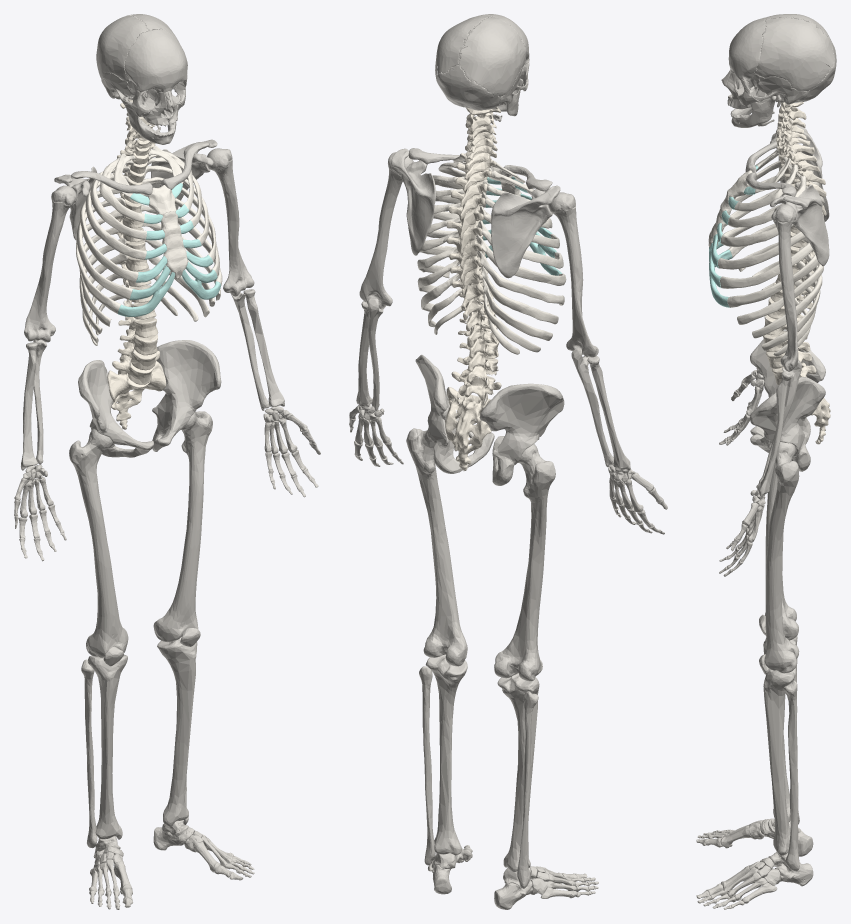
The model's file is human-skeleton.glb.
The picture shows the model from 3 angles, left to right: view 1: azimuth 30°, elevation 25°; view 2: azimuth 150°, elevation 25°; view 3: azimuth 270°, elevation 25°; orthographic projection. The views are drawn at different scales.
Parts seen in each view (by area): view 1: right-femur, left-femur, left-hip-bone, costal-cartilages, left-tibia, frontal-bone, right-tibia, right-hip-bone, right-humerus, left-humerus, right-parietal-bone, sternum (+17 smaller); view 2: right-femur, left-femur, right-hip-bone, right-parietal-bone, right-scapula, left-tibia, right-tibia, left-hip-bone, right-humerus, left-scapula, sacrum, left-humerus (+15 smaller); view 3: left-femur, left-parietal-bone, left-tibia, left-hip-bone, left-humerus, left-scapula, left-fibula, frontal-bone, right-hip-bone, costal-cartilages, right-femur, left-radius (+25 smaller).
Boxes of the visible parts, x1,y1,x2,y2 form: right-femur: (69, 428, 128, 657); left-femur: (153, 411, 212, 642); left-hip-bone: (152, 340, 221, 451); costal-cartilages: (118, 183, 220, 316); left-tibia: (157, 636, 197, 826); frontal-bone: (125, 28, 187, 93); right-tibia: (88, 654, 127, 839); right-hip-bone: (78, 360, 153, 457); right-humerus: (24, 185, 76, 342); left-humerus: (207, 148, 254, 296); right-parietal-bone: (96, 15, 149, 81); sternum: (148, 185, 188, 279); right-femur: (494, 444, 555, 681); left-femur: (406, 428, 467, 666); right-hip-bone: (479, 383, 564, 485); right-parietal-bone: (458, 16, 526, 96); right-scapula: (491, 185, 560, 278); left-tibia: (425, 654, 467, 854); right-tibia: (497, 673, 539, 871); left-hip-bone: (415, 354, 494, 473); right-humerus: (549, 192, 598, 357); left-scapula: (391, 148, 435, 255); sacrum: (445, 387, 491, 470); left-humerus: (359, 152, 413, 309); left-femur: (764, 442, 799, 673); left-parietal-bone: (755, 17, 834, 91); left-tibia: (763, 668, 795, 855); left-hip-bone: (750, 377, 825, 471); left-humerus: (771, 204, 798, 371); left-scapula: (770, 184, 829, 266); left-fibula: (783, 680, 799, 870); frontal-bone: (728, 17, 767, 80); right-hip-bone: (750, 330, 825, 444); costal-cartilages: (709, 165, 758, 307); right-femur: (765, 460, 798, 640); left-radius: (756, 371, 792, 497).
Bounding box in the file's own units: 648 × 1707 × 254.
